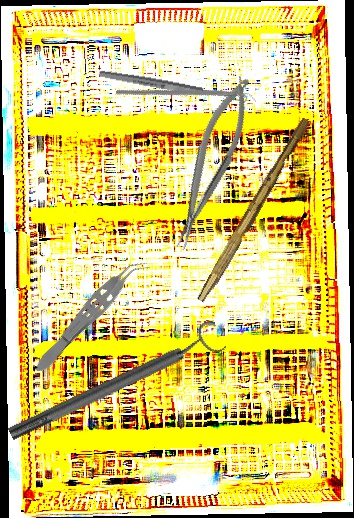Chopper: (115, 31, 257, 163)
Fixation Ring: (2, 317, 228, 450)
Needle Holder: (158, 70, 264, 255)
Scalpel Handle: (196, 115, 312, 306)
Surgical Spoon: (97, 68, 249, 105)
Tissue Forceps: (27, 248, 154, 381)
